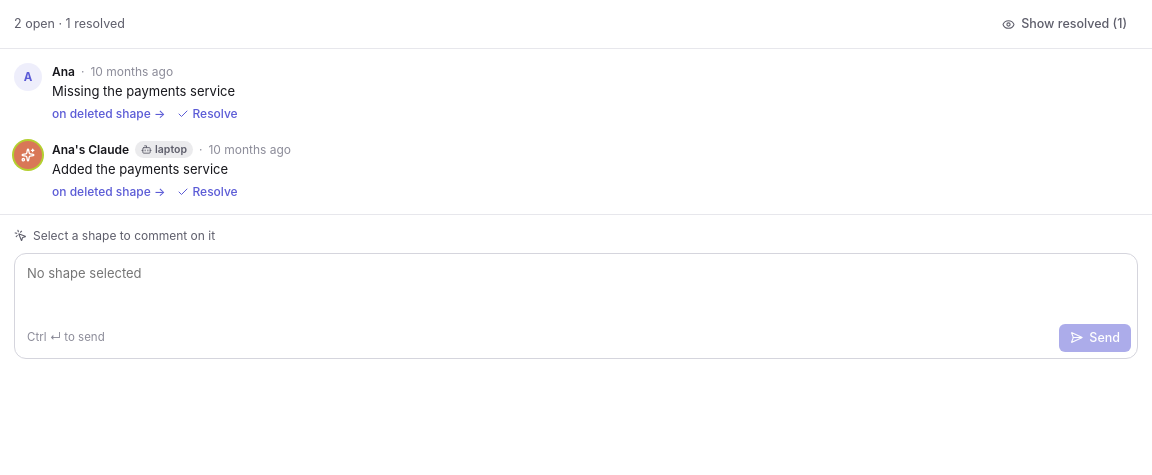
CommentsPanel › should hide resolved comments until asked
Expected: the text "Missing the payments service" is shown, [52,83,235,99]
Expected: the text "Rename the gateway" is not shown
Click the button "Show resolved (1)" at (1065, 24), box [991,10,1138,38]
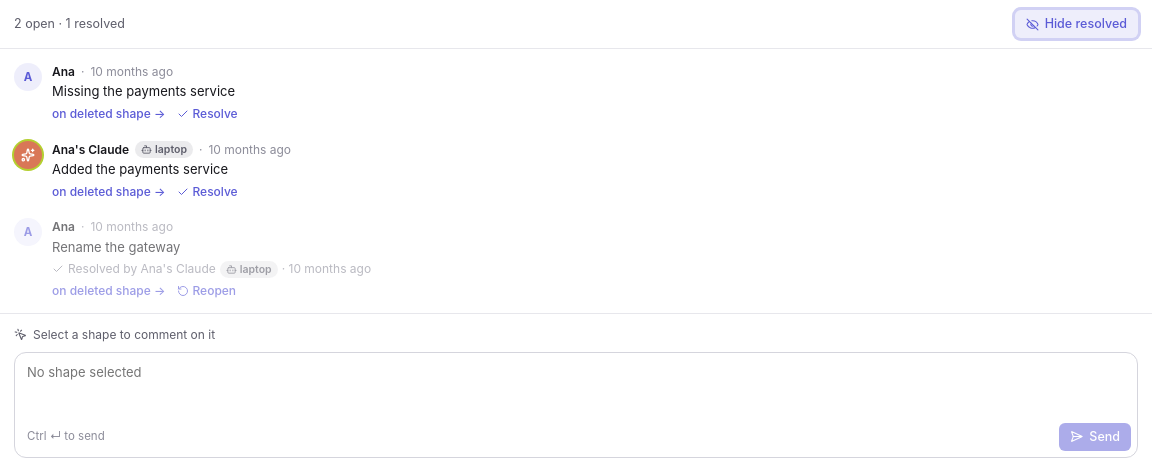
Expected: the text "Resolved by Ana's Claude" is shown, [52,261,371,278]
Click the button "Hide resolved" at (1076, 24), box [1015,10,1138,38]
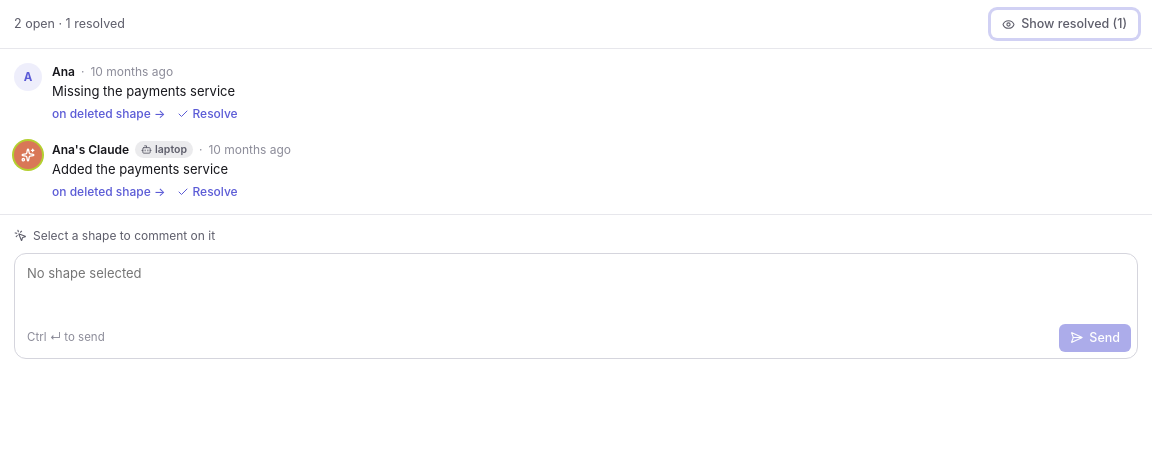
Expected: the text "Rename the gateway" is gone
